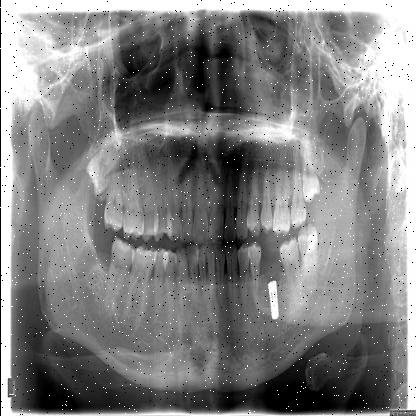ITI: (266, 278, 281, 320)
